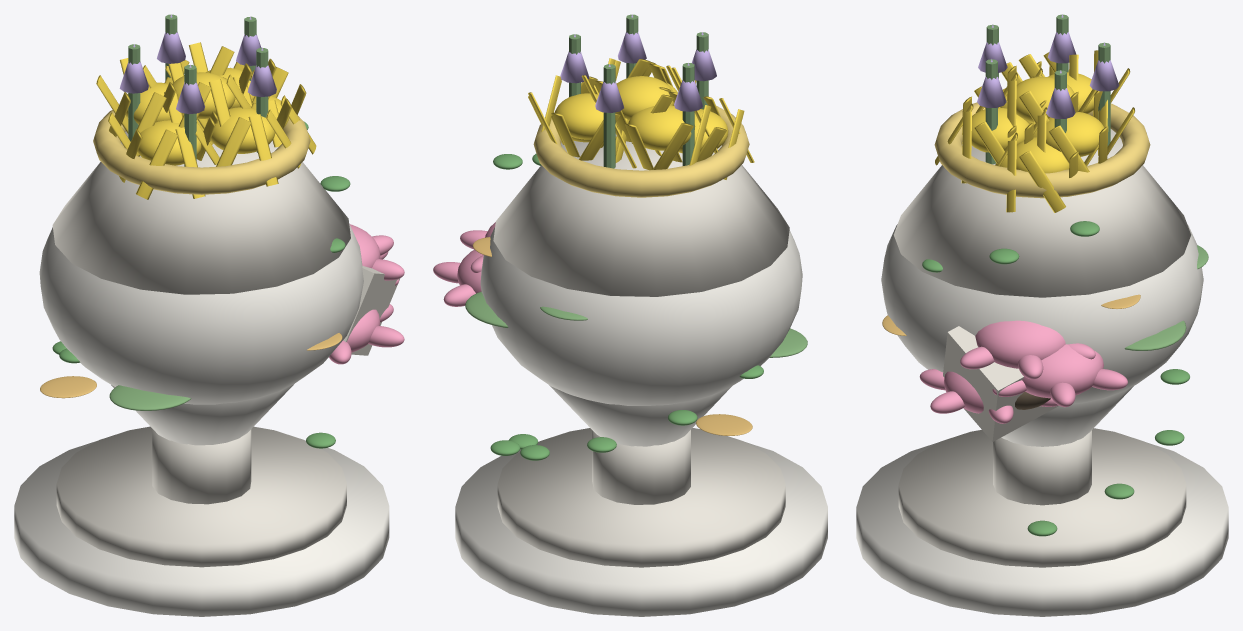
Rendered from flora_overgrown_urn.glb.
The picture shows the model from 3 angles, left to right: view 1: azimuth 30°, elevation 25°; view 2: azimuth 150°, elevation 25°; view 3: azimuth 270°, elevation 25°; orthographic projection.
Parts seen in each view (by area): view 1: Sphere, Cone.001, Cylinder.001, Cylinder, Torus, Cylinder.002, Cone, Cube, Sphere.030, Sphere.005, Sphere.006, Sphere.045 (+18 smaller); view 2: Sphere, Cone.001, Cylinder.001, Cylinder, Torus, Cylinder.002, Cone, Sphere.004, Sphere.003, Sphere.002, Sphere.045, Cylinder.052 (+11 smaller); view 3: Cone.001, Cylinder.001, Cylinder, Sphere, Torus, Cylinder.002, Cube, Cone, Sphere.008, Sphere.022, Sphere.003, Sphere.005 (+19 smaller).
Part boxes in pixels (x1,y1,x2,y2): Sphere: (39,224,363,404); Cone.001: (52,122,350,294); Cylinder.001: (56,426,346,567); Cylinder: (14,441,389,616); Torus: (93,110,310,194); Cylinder.002: (152,429,251,504); Cone: (111,384,293,445); Cube: (343,265,400,355); Sphere.030: (109,385,191,410); Sphere.005: (210,107,275,153); Sphere.006: (137,120,201,165); Sphere.045: (40,376,96,398); Sphere: (480,227,802,405); Cone.001: (493,134,789,296); Cylinder.001: (497,428,785,567); Cylinder: (455,442,827,616); Torus: (533,106,749,197); Cylinder.002: (592,430,690,504); Cone: (549,385,731,446); Sphere.004: (628,105,695,150); Sphere.003: (555,93,617,139); Sphere.002: (616,76,673,120); Sphere.045: (696,414,752,435); Cylinder.052: (603,64,615,168); Cone.001: (893,129,1191,297); Cylinder.001: (898,428,1186,567); Cylinder: (856,442,1228,616); Sphere: (881,224,1203,404); Torus: (934,102,1150,198); Cylinder.002: (993,430,1091,505); Cube: (943,326,1058,441); Cone: (1001,386,1133,446); Sphere.008: (975,320,1065,368); Sphere.022: (1022,344,1103,398); Sphere.003: (1046,112,1104,156); Sphere.005: (971,107,1029,152).
Bounding box in the file's own units: 1.66 × 2.21 × 1.5.
